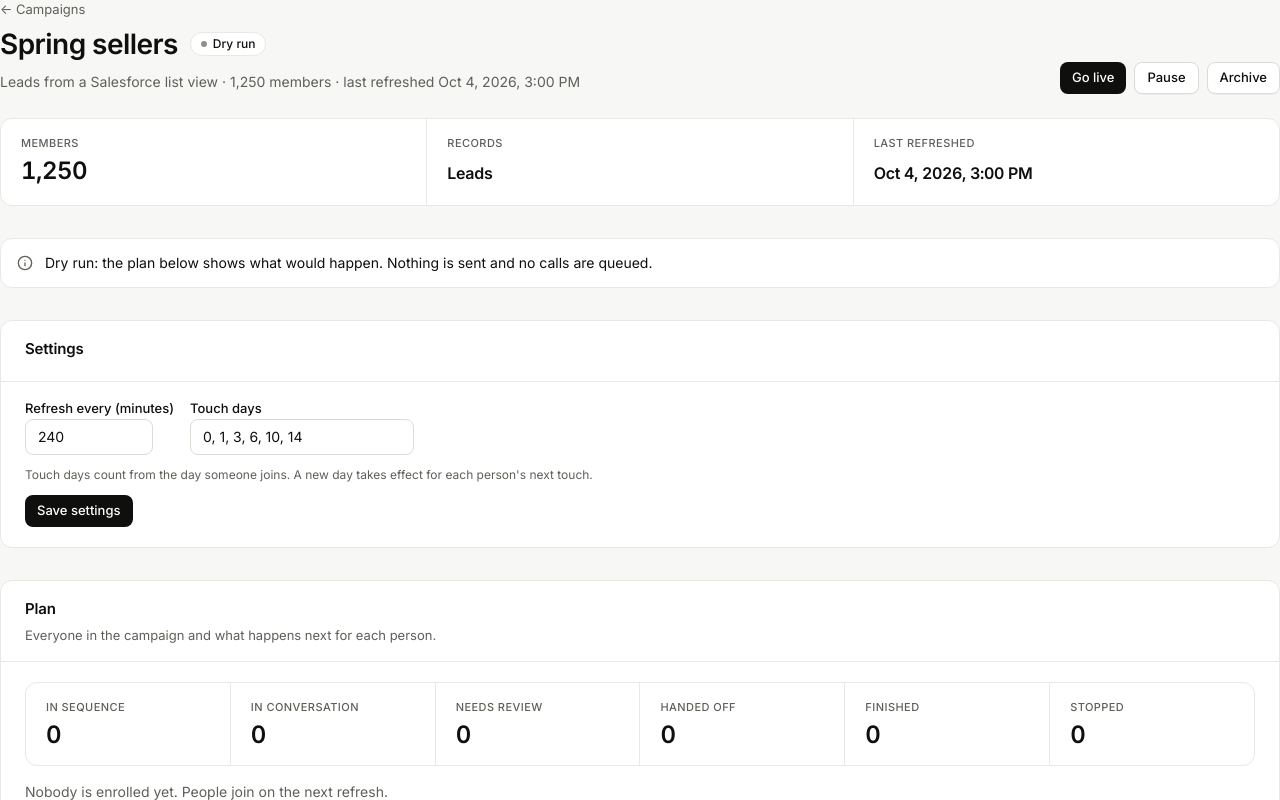
Scenario: CampaignDetail header › asks before going live, then posts the change and shows the new status
Click the button "Go live" at [1093, 78], box [1060,62,1126,94]
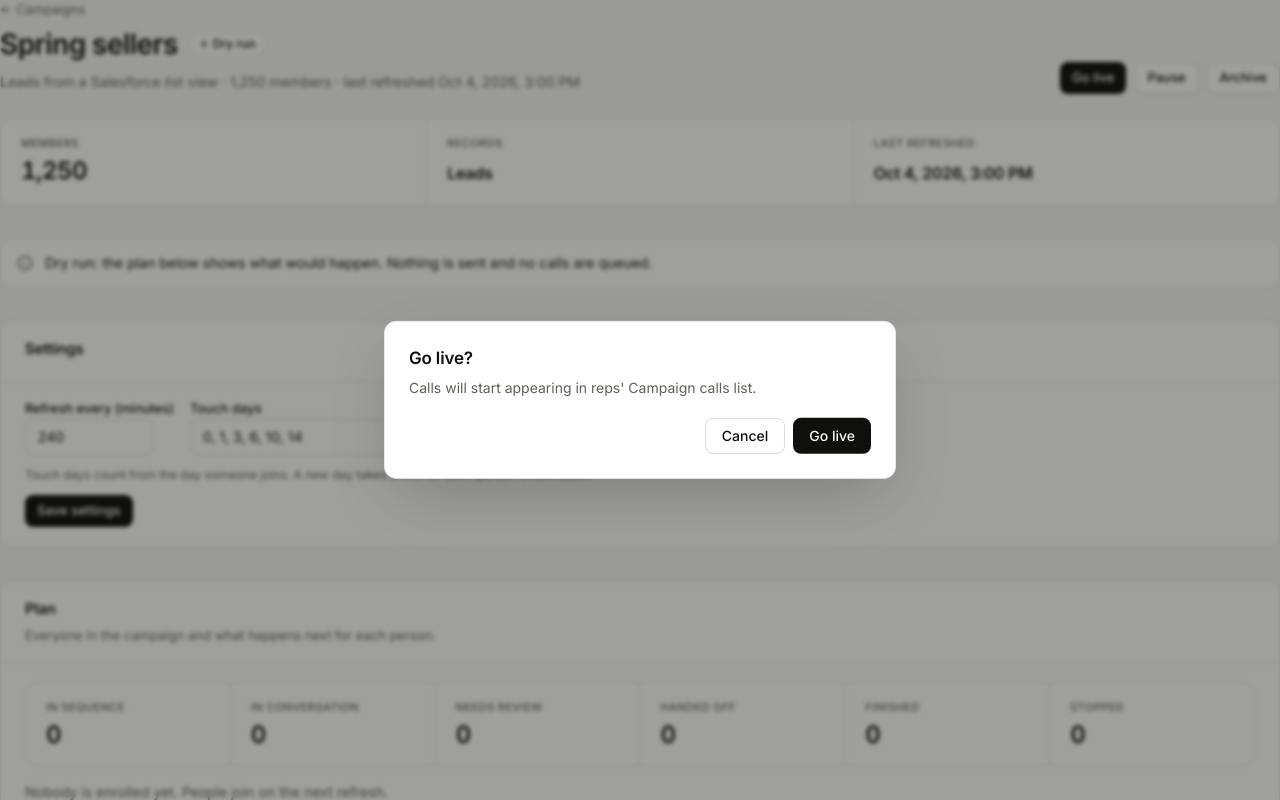
Now the dialog shows "Calls will start appearing in reps' Campaign calls list.", box [409,379,756,396]
Click the button "Go live" at [832, 436], box [793,418,871,454]
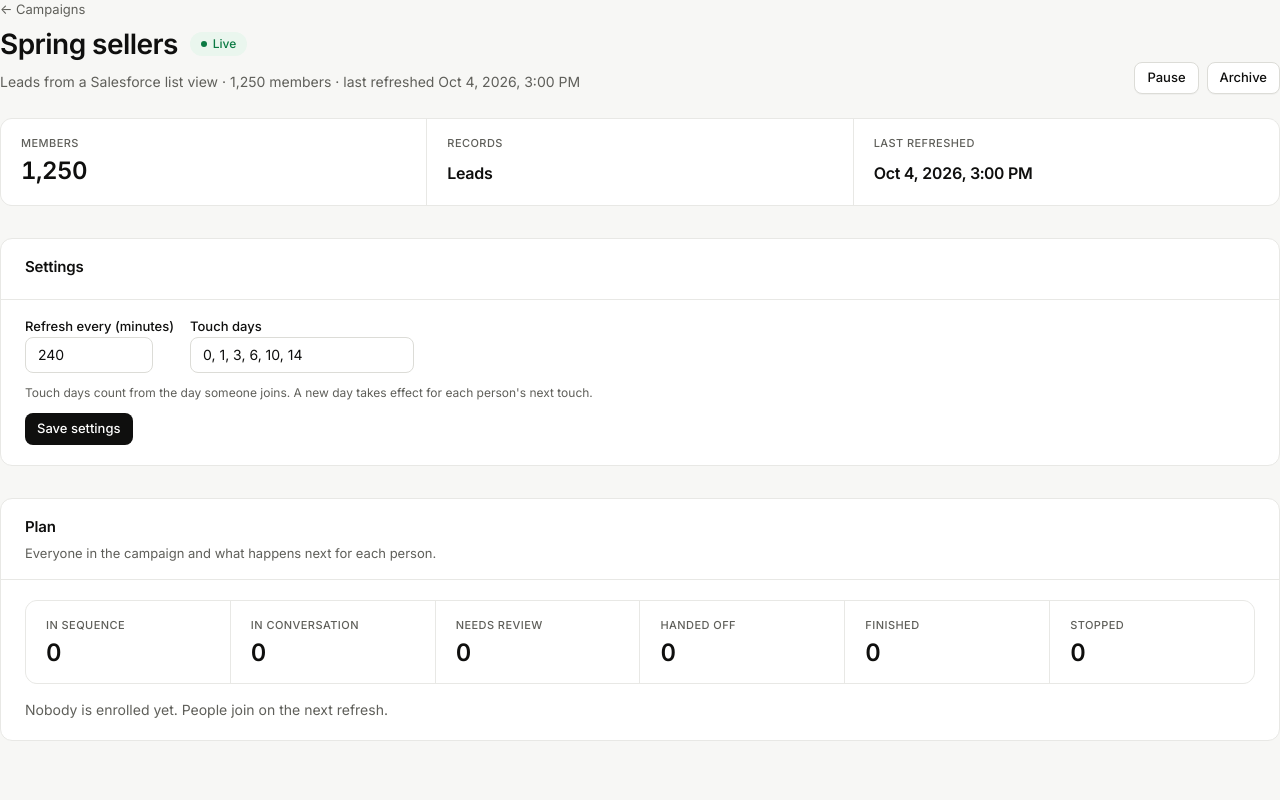
Now the text "Live" is shown, box [190,32,247,56]
